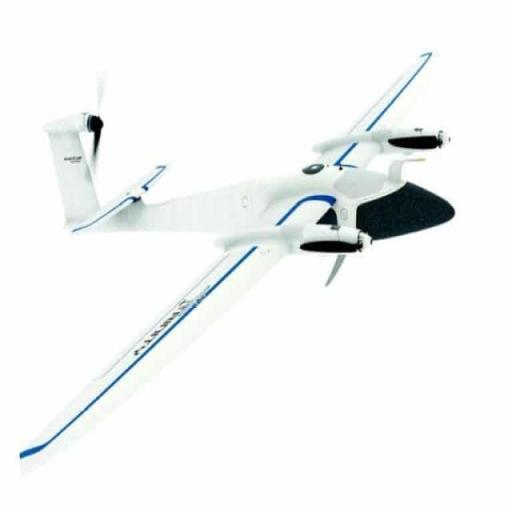uav: (7, 42, 474, 464)
